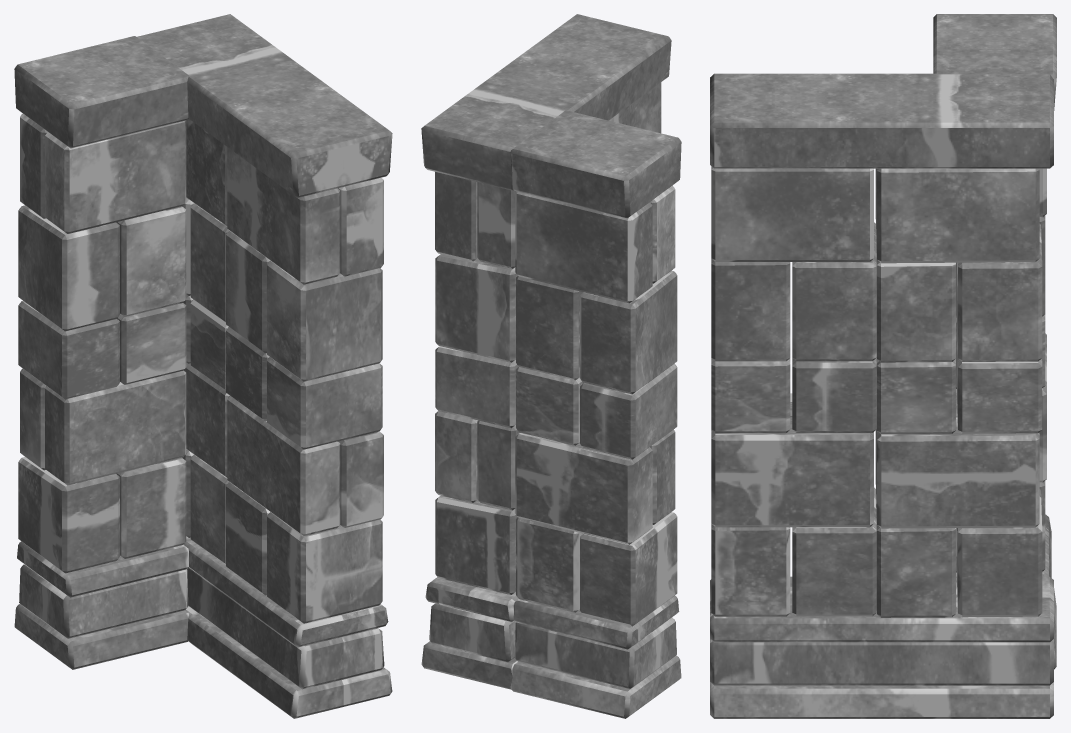
The model's file is SM_Church_Wall_Corner90.fbx.
The picture shows the model from 3 angles, left to right: view 1: azimuth 30°, elevation 25°; view 2: azimuth 150°, elevation 25°; view 3: azimuth 270°, elevation 25°; orthographic projection. The views are drawn at different scales.
Parts seen in each view (by area): view 1: SM_Wall_Base.002, SM_Wall_Base.003; view 2: SM_Wall_Base.003, SM_Wall_Base.002; view 3: SM_Wall_Base.002, SM_Wall_Base.003.
Boxes of the visible parts, left/top/right/bottom form: SM_Wall_Base.002: left=137, top=14, right=392, bottom=718; SM_Wall_Base.003: left=14, top=36, right=189, bottom=669; SM_Wall_Base.003: left=510, top=110, right=681, bottom=718; SM_Wall_Base.002: left=421, top=14, right=671, bottom=689; SM_Wall_Base.002: left=710, top=73, right=1053, bottom=718; SM_Wall_Base.003: left=933, top=14, right=1056, bottom=669.
Bounding box in the file's own units: 326 × 804 × 424.
